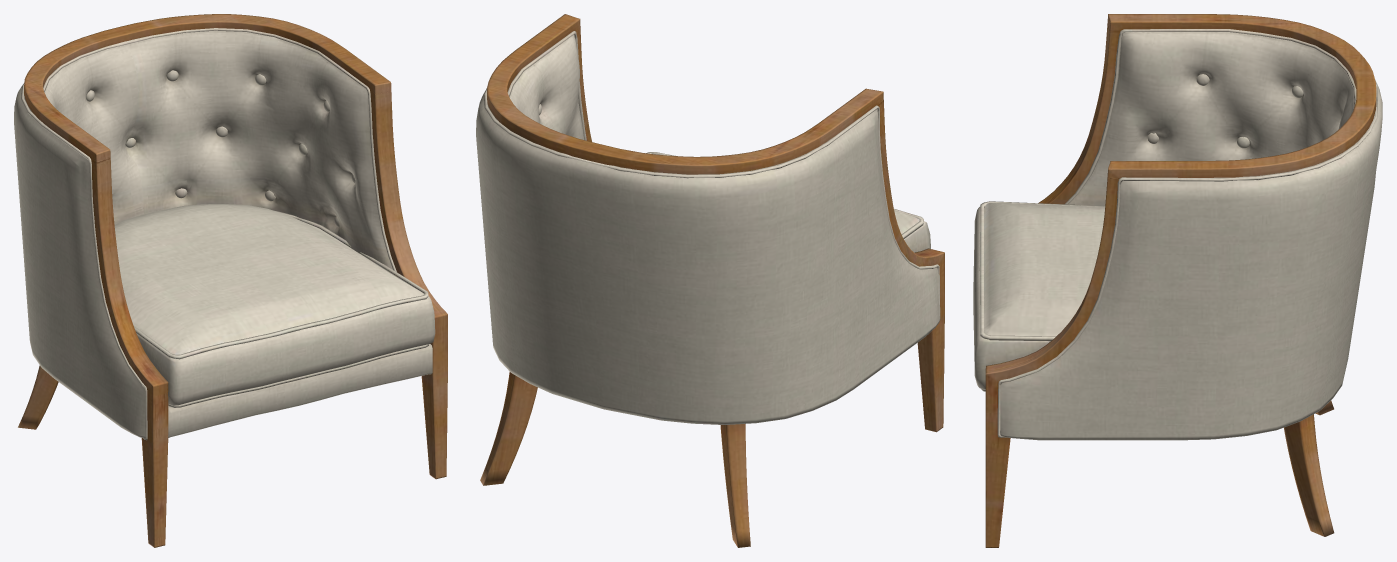
3 renders of one model, left to right at view 1: azimuth 30°, elevation 25°; view 2: azimuth 150°, elevation 25°; view 3: azimuth 270°, elevation 25°, orthographic. The views are drawn at different scales.
Visible parts, largest first — view 1: RootNode; view 2: RootNode; view 3: RootNode.
Boxes of the visible parts, bbox=[...] form: RootNode: bbox=[14, 14, 447, 547]; RootNode: bbox=[476, 14, 944, 547]; RootNode: bbox=[973, 14, 1382, 547].
Bounding box in the file's own units: 0.7106 × 0.7747 × 0.7572.
1 material, 1 textured.
